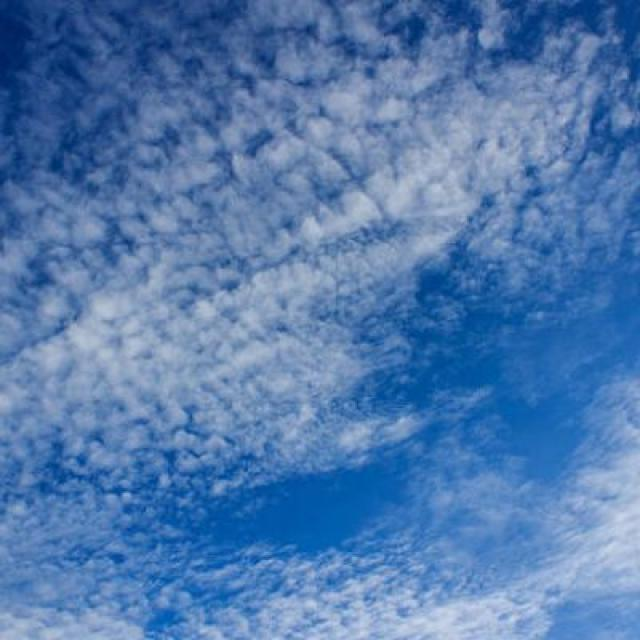As: (25, 29, 599, 473)
